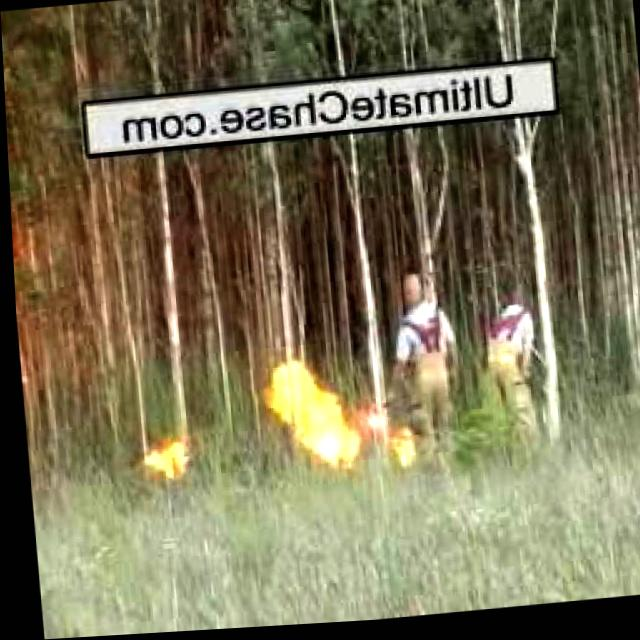helmet: (256, 357, 359, 474), (359, 415, 419, 480), (139, 439, 186, 487)
